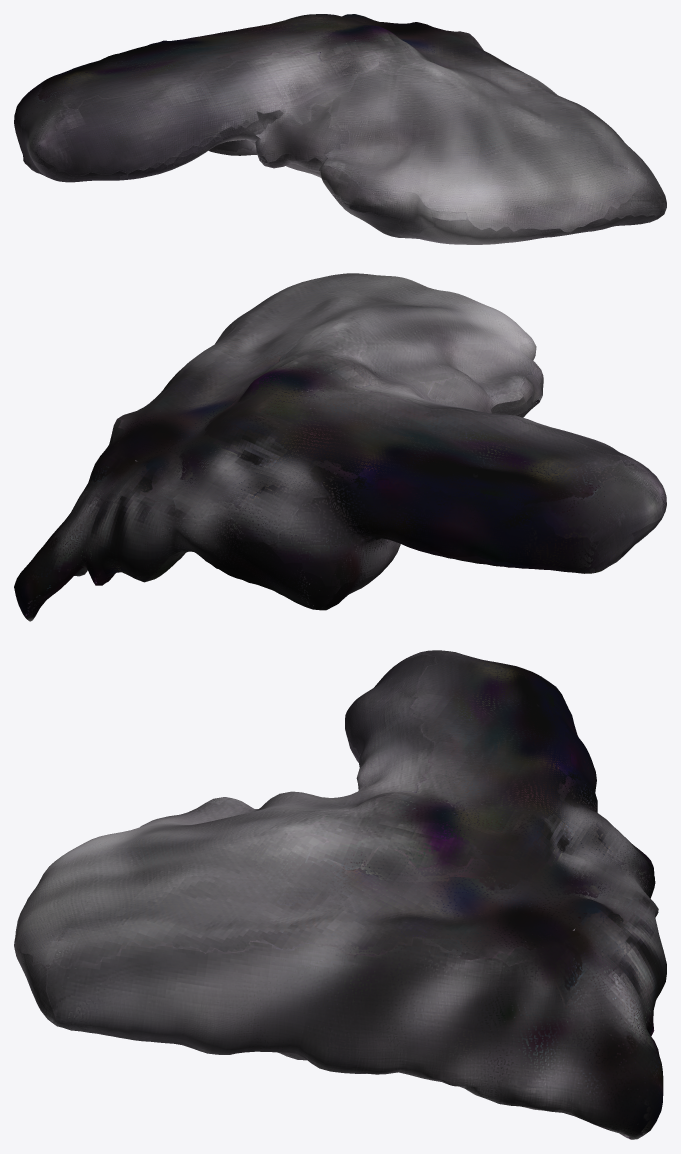
Rendered from 0_chair.glb.
3 renders of one model, top to bottom at view 1: azimuth 30°, elevation 25°; view 2: azimuth 150°, elevation 25°; view 3: azimuth 270°, elevation 25°, orthographic. The views are drawn at different scales.
Visible parts, largest first — view 1: 0_chair.obj; view 2: 0_chair.obj; view 3: 0_chair.obj.
Boxes of the visible parts, <box> form: 0_chair.obj: <box>14,14,666,244</box>; 0_chair.obj: <box>14,273,666,621</box>; 0_chair.obj: <box>14,650,666,1139</box>.
Size of the model in its own units: 0.0561 by 0.0212 by 0.0532.
Materials: 1 (1 with a texture image).
